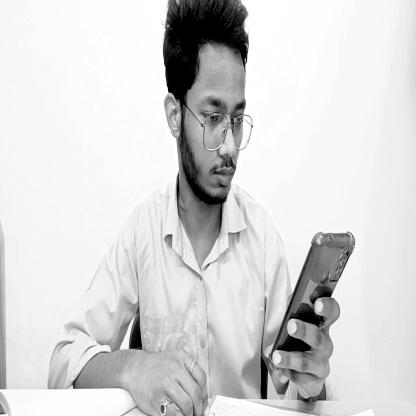Distracted: (168, 1, 256, 210)
